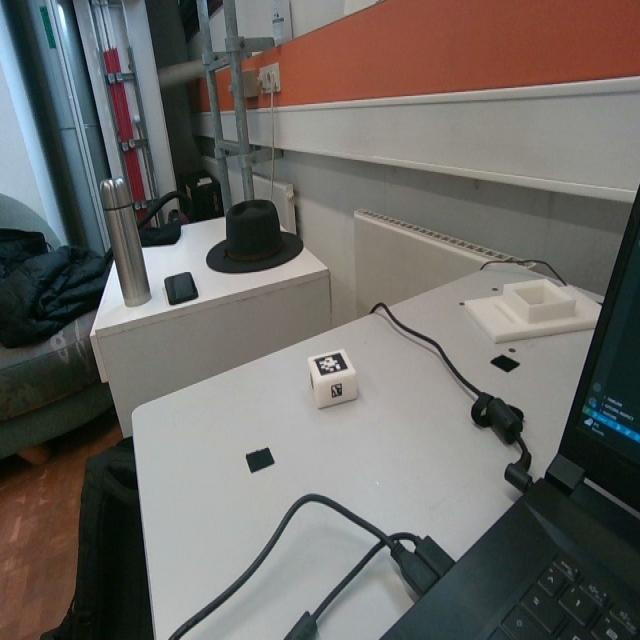Cube: (306, 347, 357, 412)
